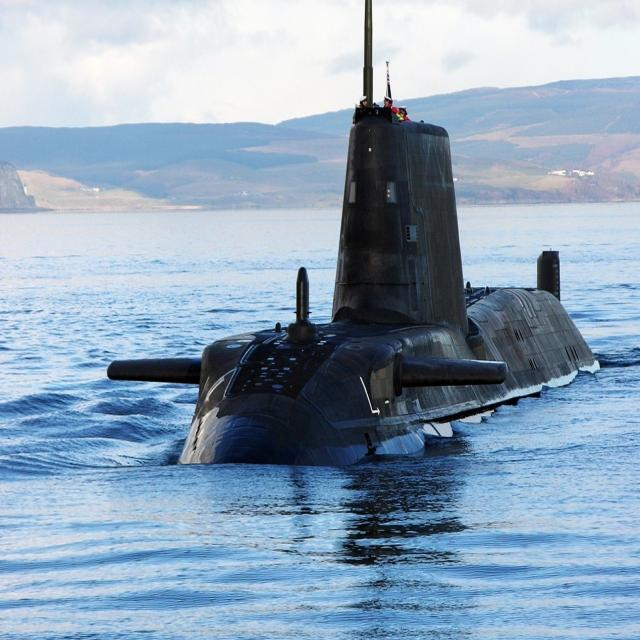submarine: (103, 1, 614, 476)
